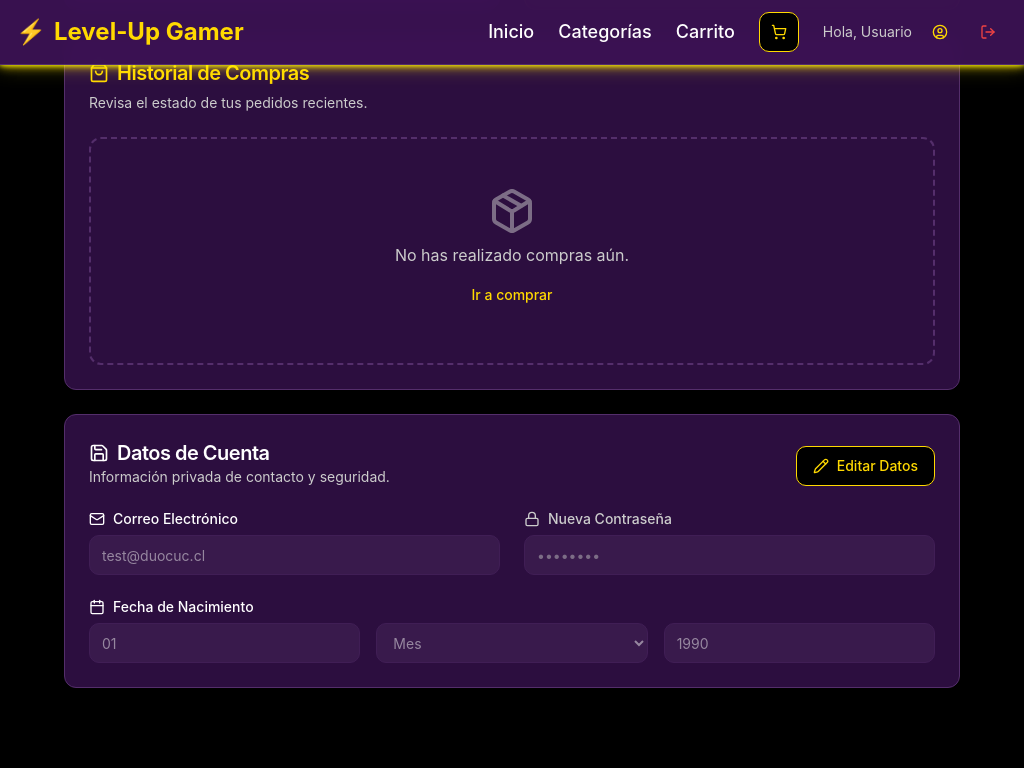
it: Vista Perfil - Cobertura Completa › 5. Cancelar Edición
(page scrolled)
Step 1. Click the button "Editar Datos" → point(865, 466), box [796, 446, 935, 486]
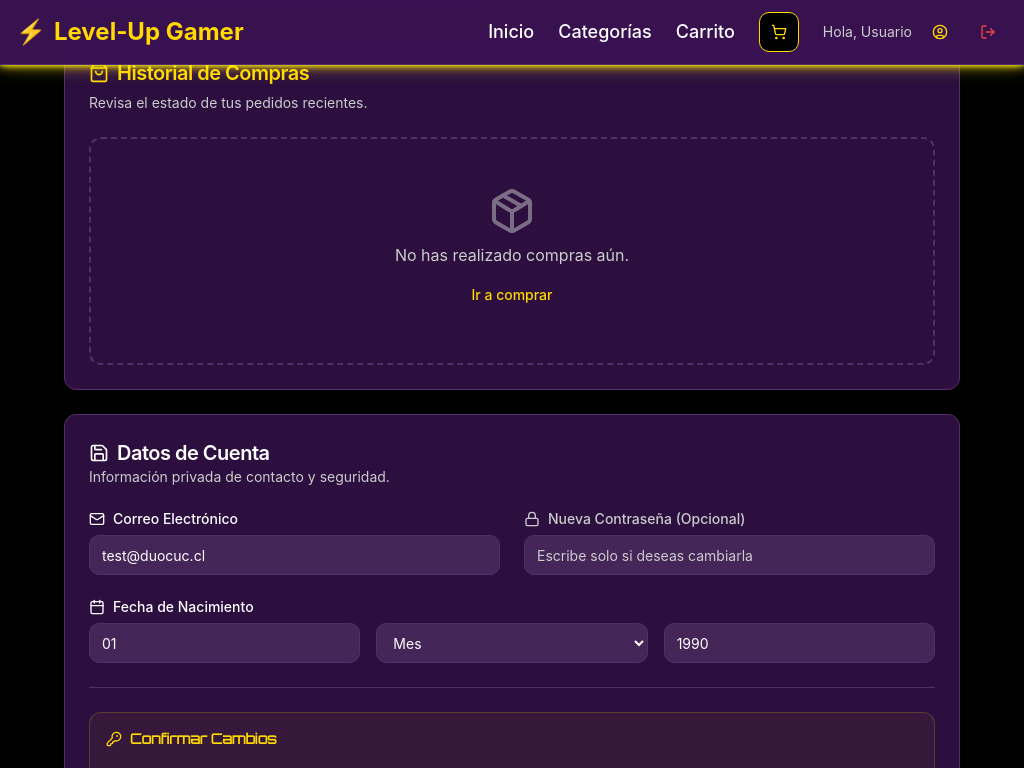
Step 2. Replace the text in the field showing "test@duocuc.cl" with "borrador@email.com" → point(294, 555), box [89, 535, 500, 575]
(page scrolled)
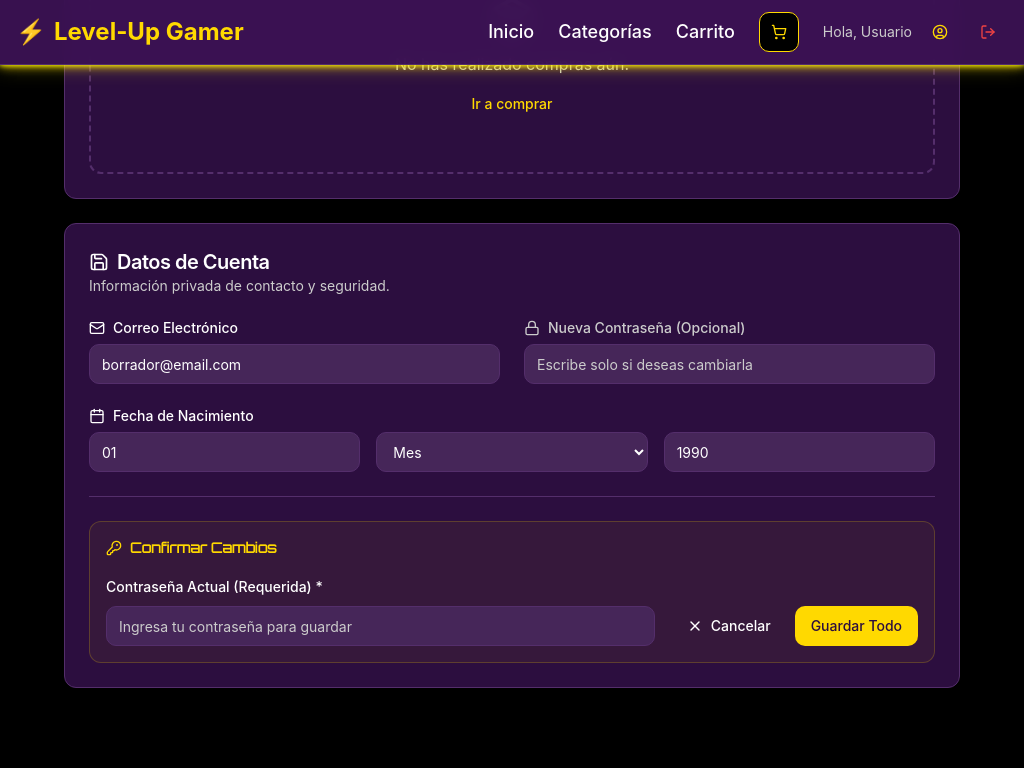
Step 3. Click the button "Cancelar" → point(729, 626), box [671, 606, 787, 646]
(page scrolled)
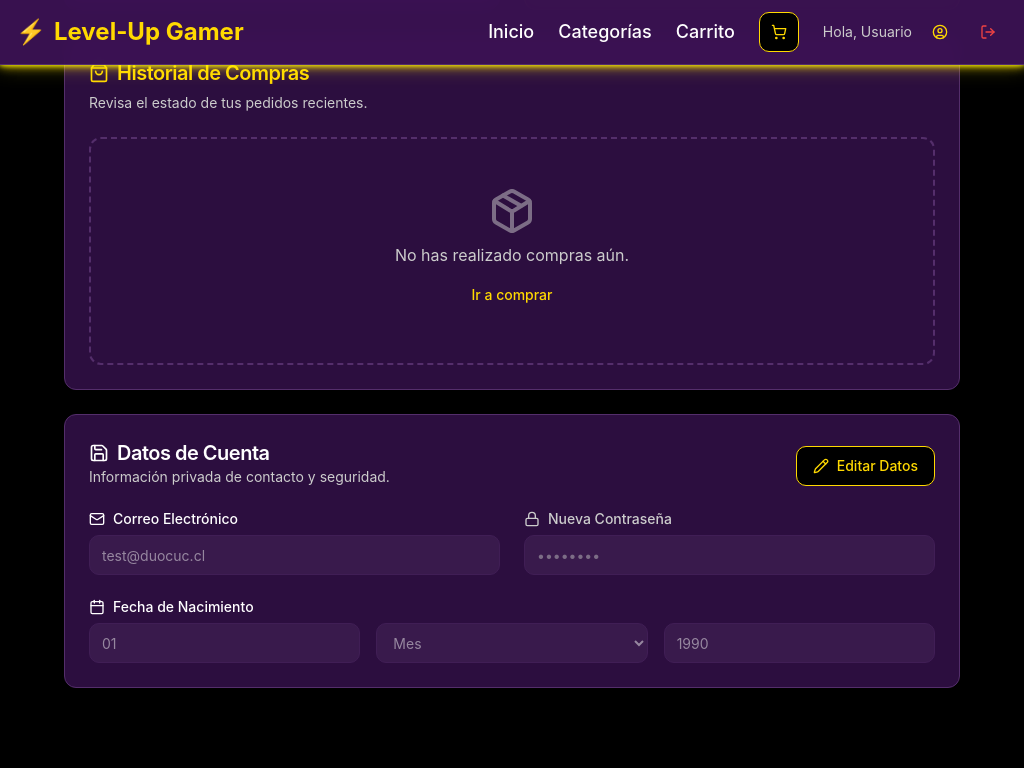
Now the field showing "test@duocuc.cl" is disabled, box [89, 535, 500, 575]
Now the button "Guardar Todo" is gone
